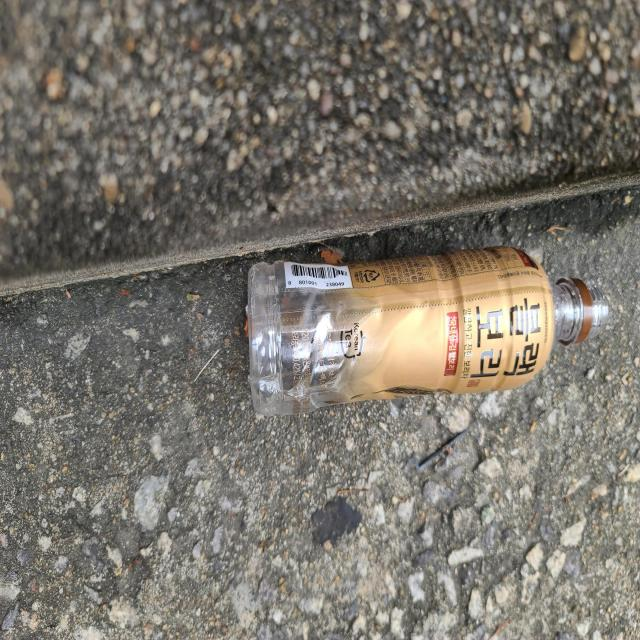plastic: (247, 246, 610, 415)
